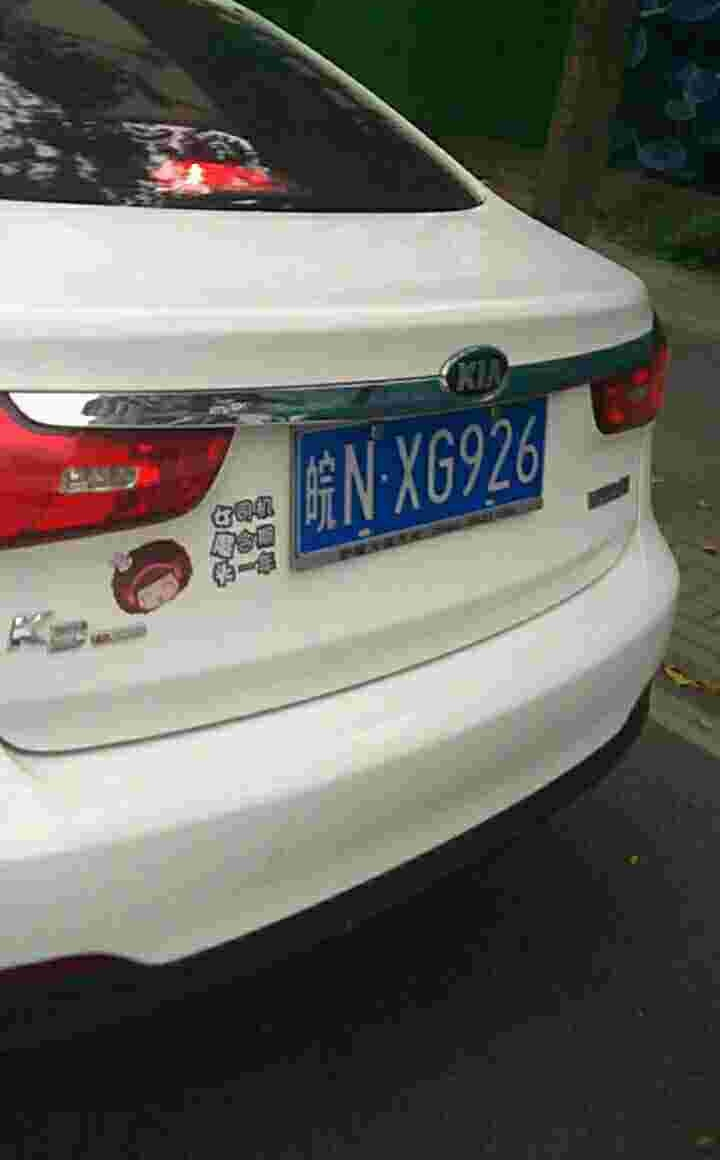license_plate: (289, 400, 558, 557)
